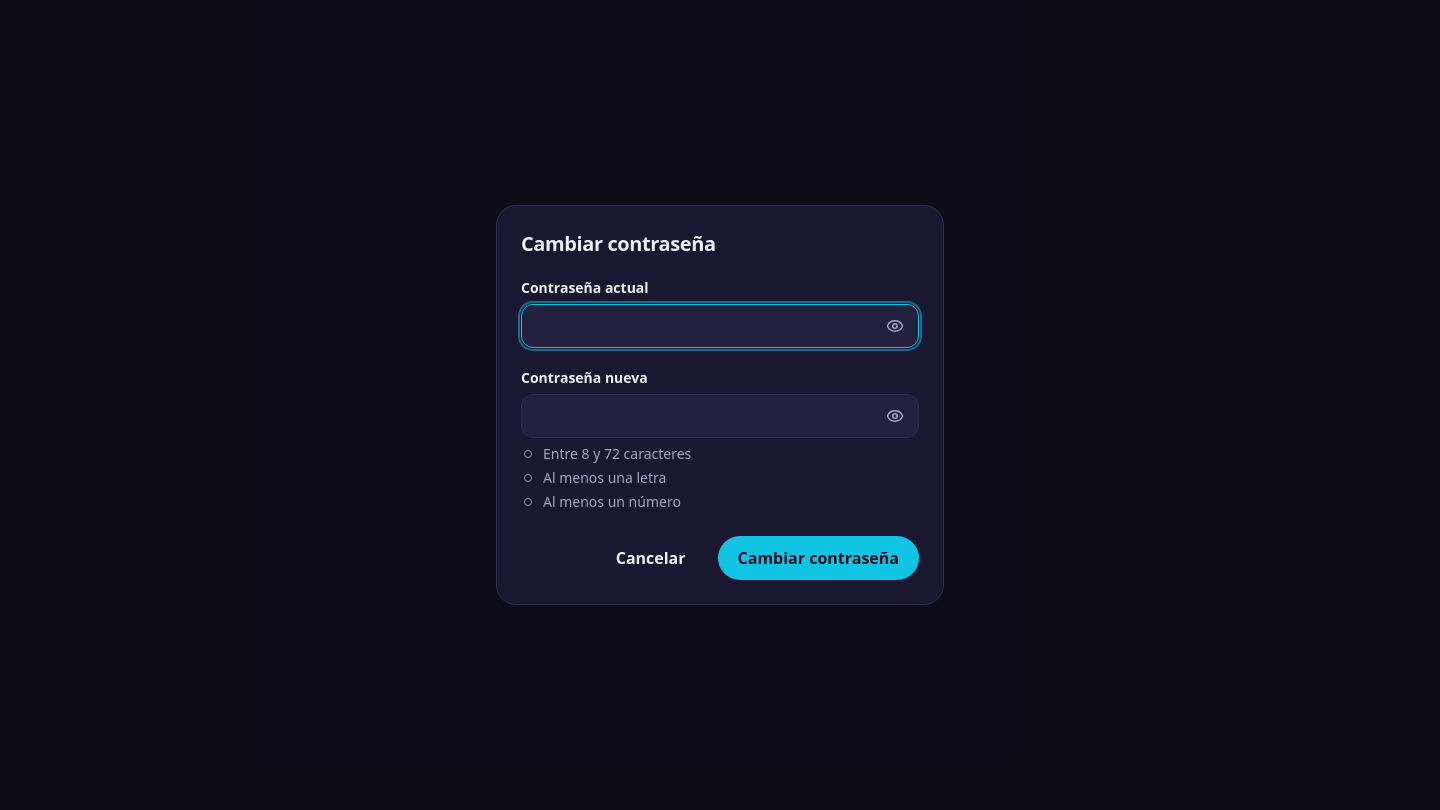
ChangePasswordModal › envía la actual y la nueva; al terminar cierra y avisa
Type "vieja123" into the password field labelled "Contraseña actual".
click(720, 326); type("vieja123")  # box [521, 304, 919, 348]
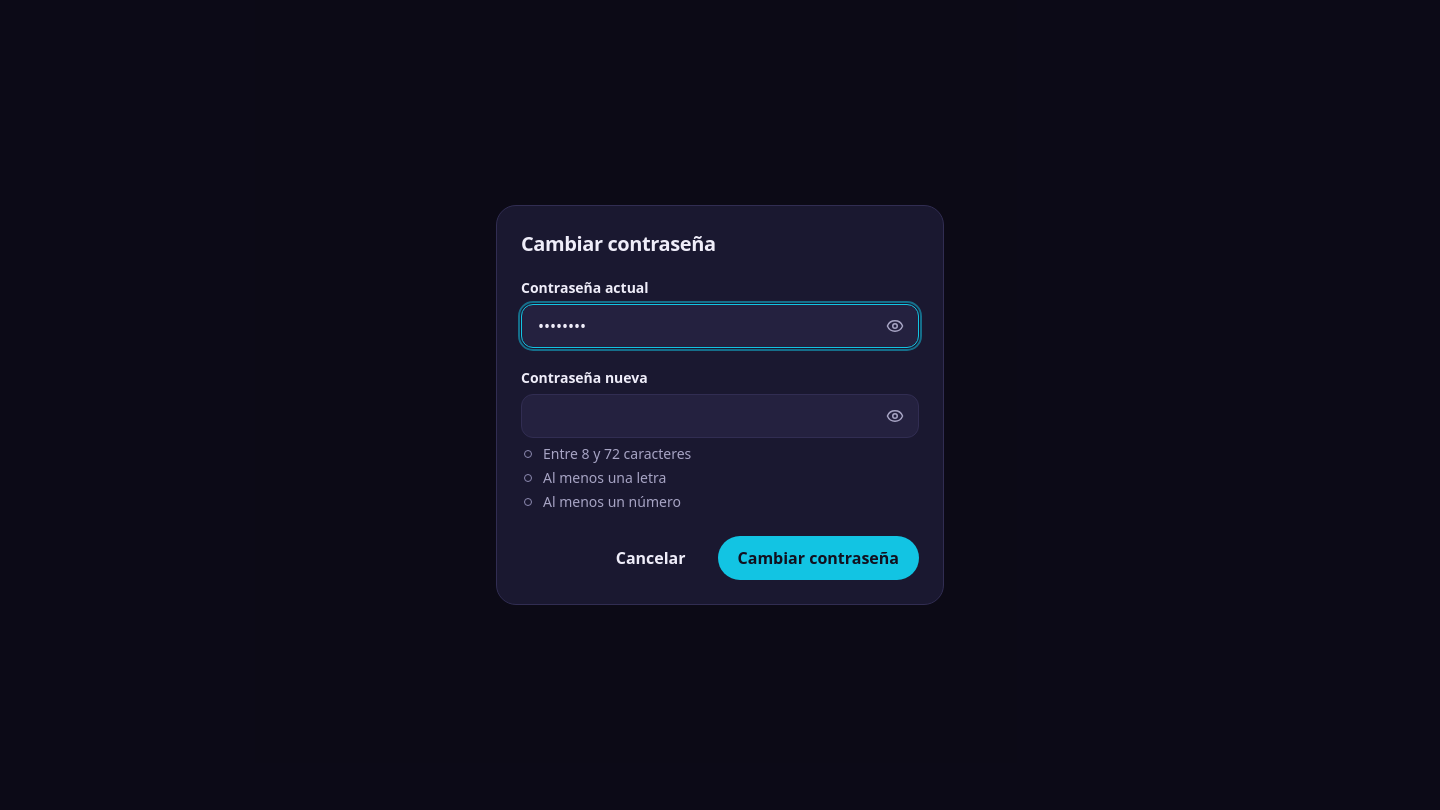
Type "nueva1234" into the password field labelled "Contraseña nueva".
click(720, 416); type("nueva1234")  # box [521, 394, 919, 438]
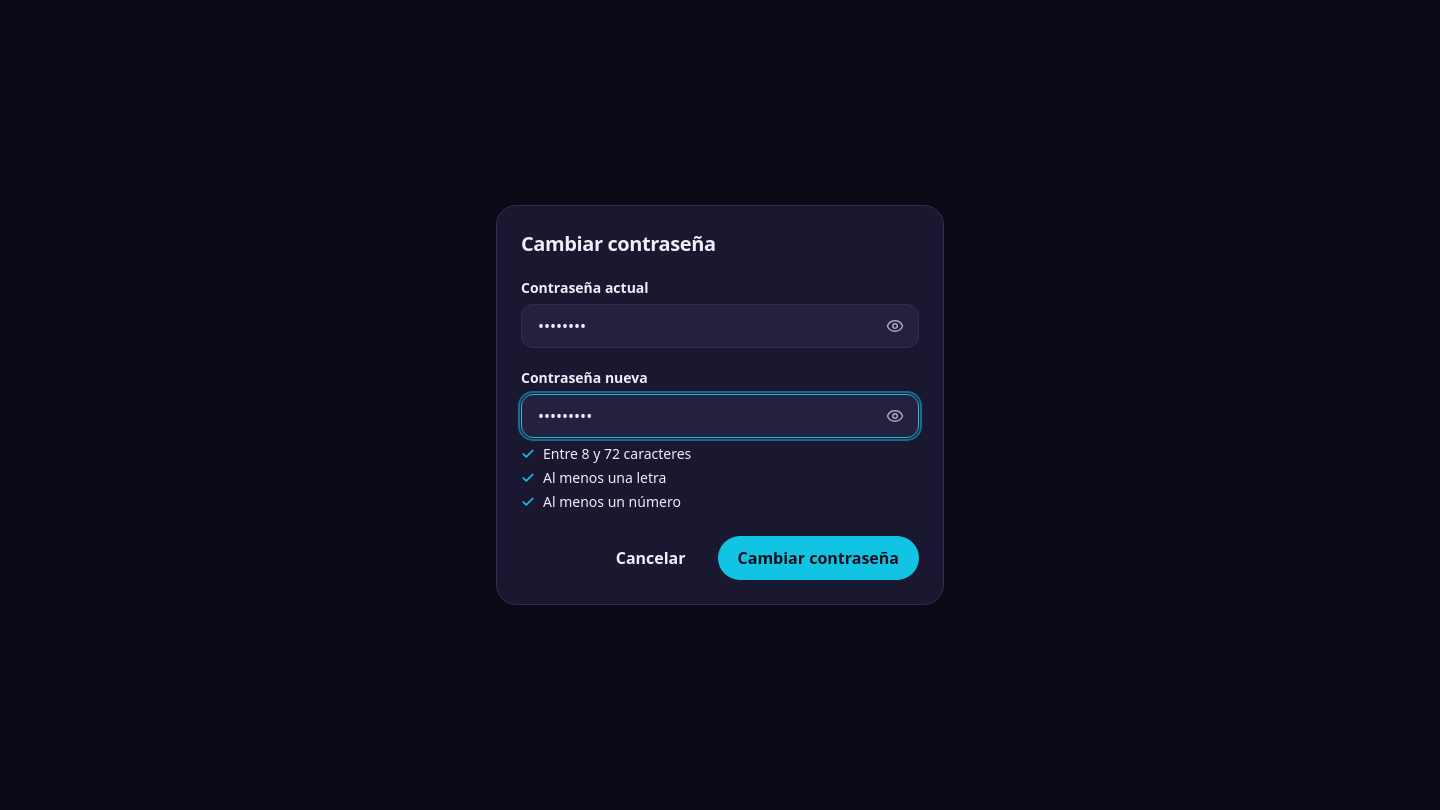
Click the button "Cambiar contraseña".
click(818, 558)  # box [718, 536, 919, 580]
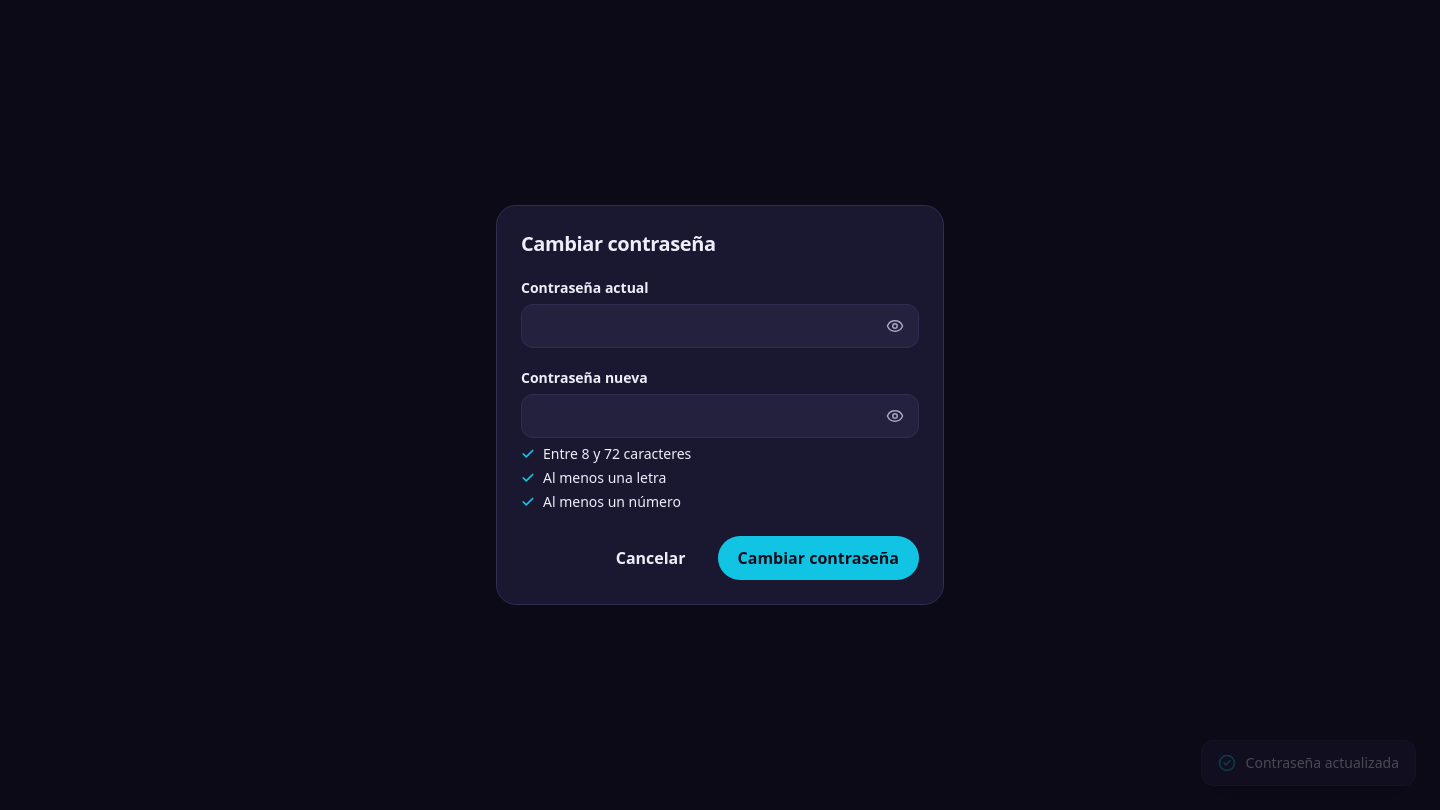
Expected: the text "Contraseña actualizada" is shown, [1201, 740, 1416, 786]
